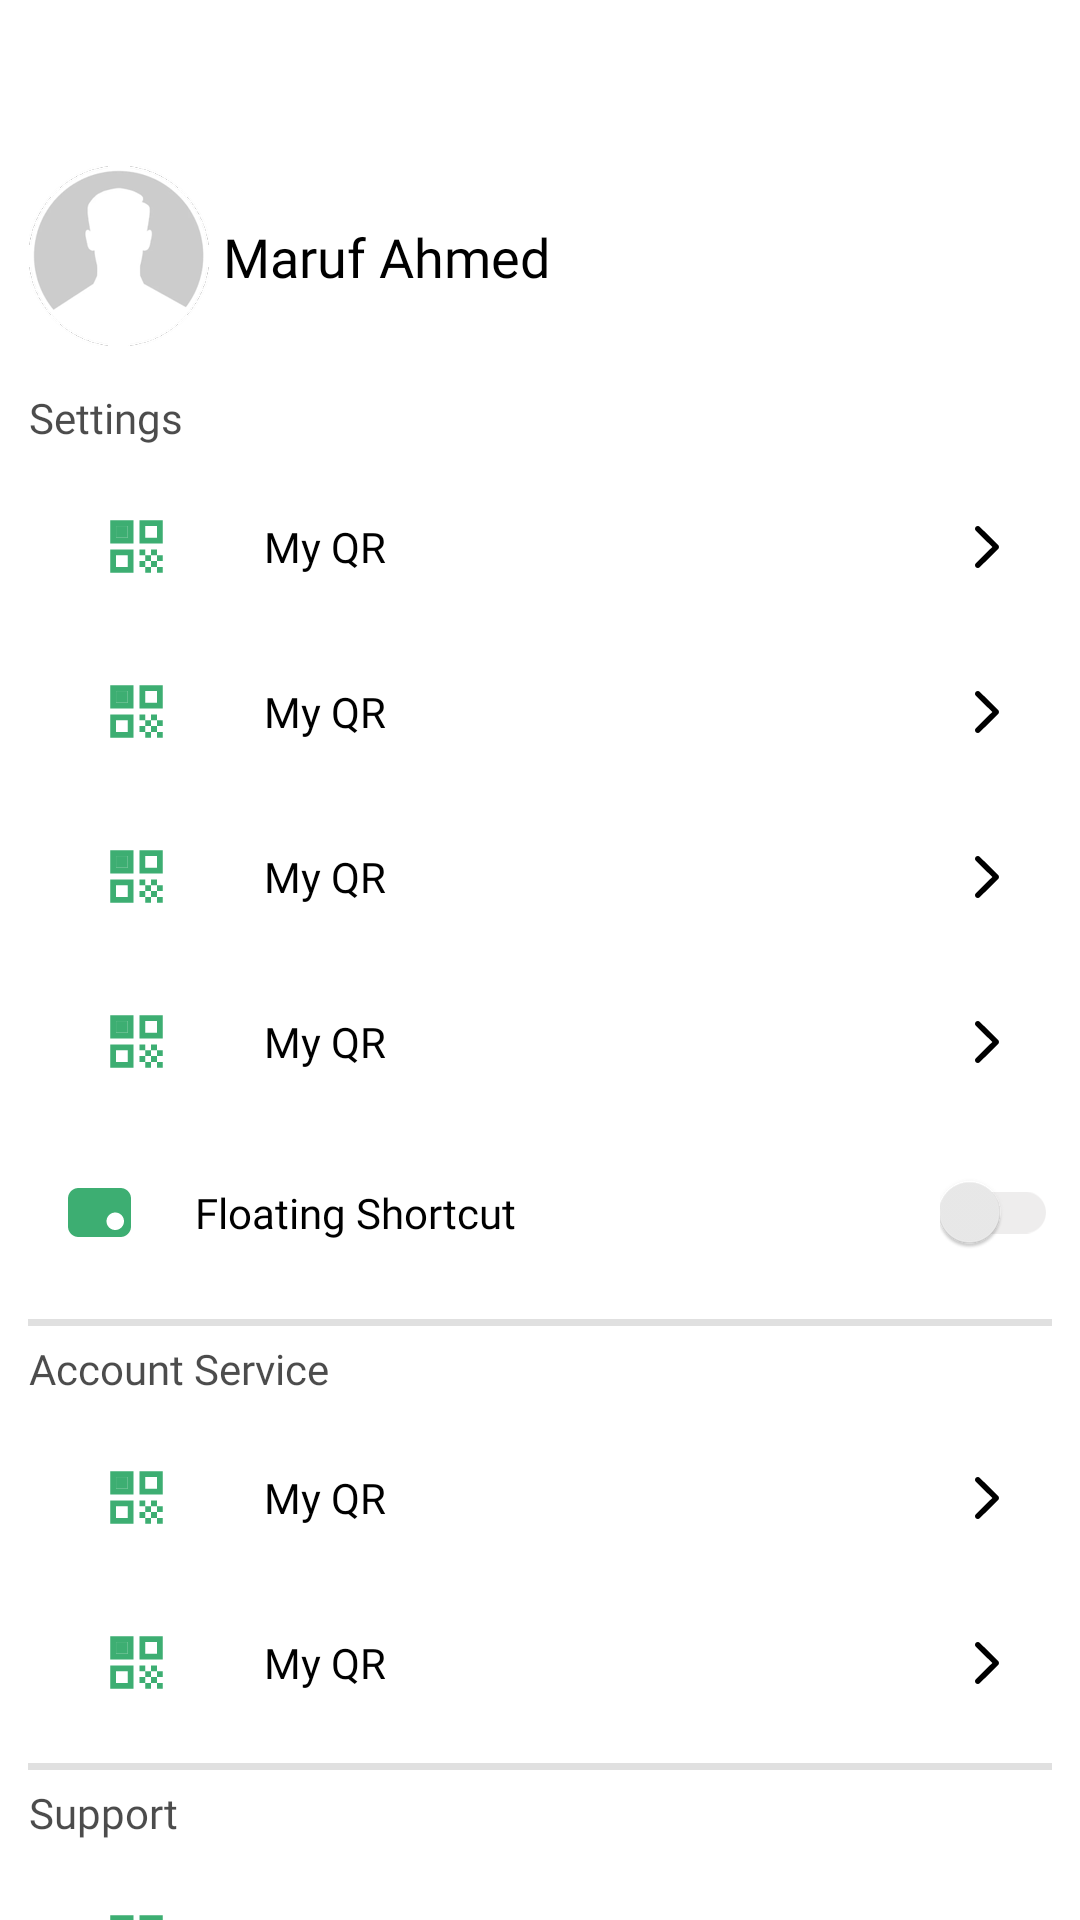

Locate icon controls on the screen. Image size 1080×1920, boxes as region(x1, y1, x2, y2).
arrow: region(975, 526, 999, 568), region(975, 691, 999, 733), region(975, 856, 999, 898), region(975, 1021, 999, 1063), region(975, 1477, 999, 1519), region(975, 1642, 999, 1684)
